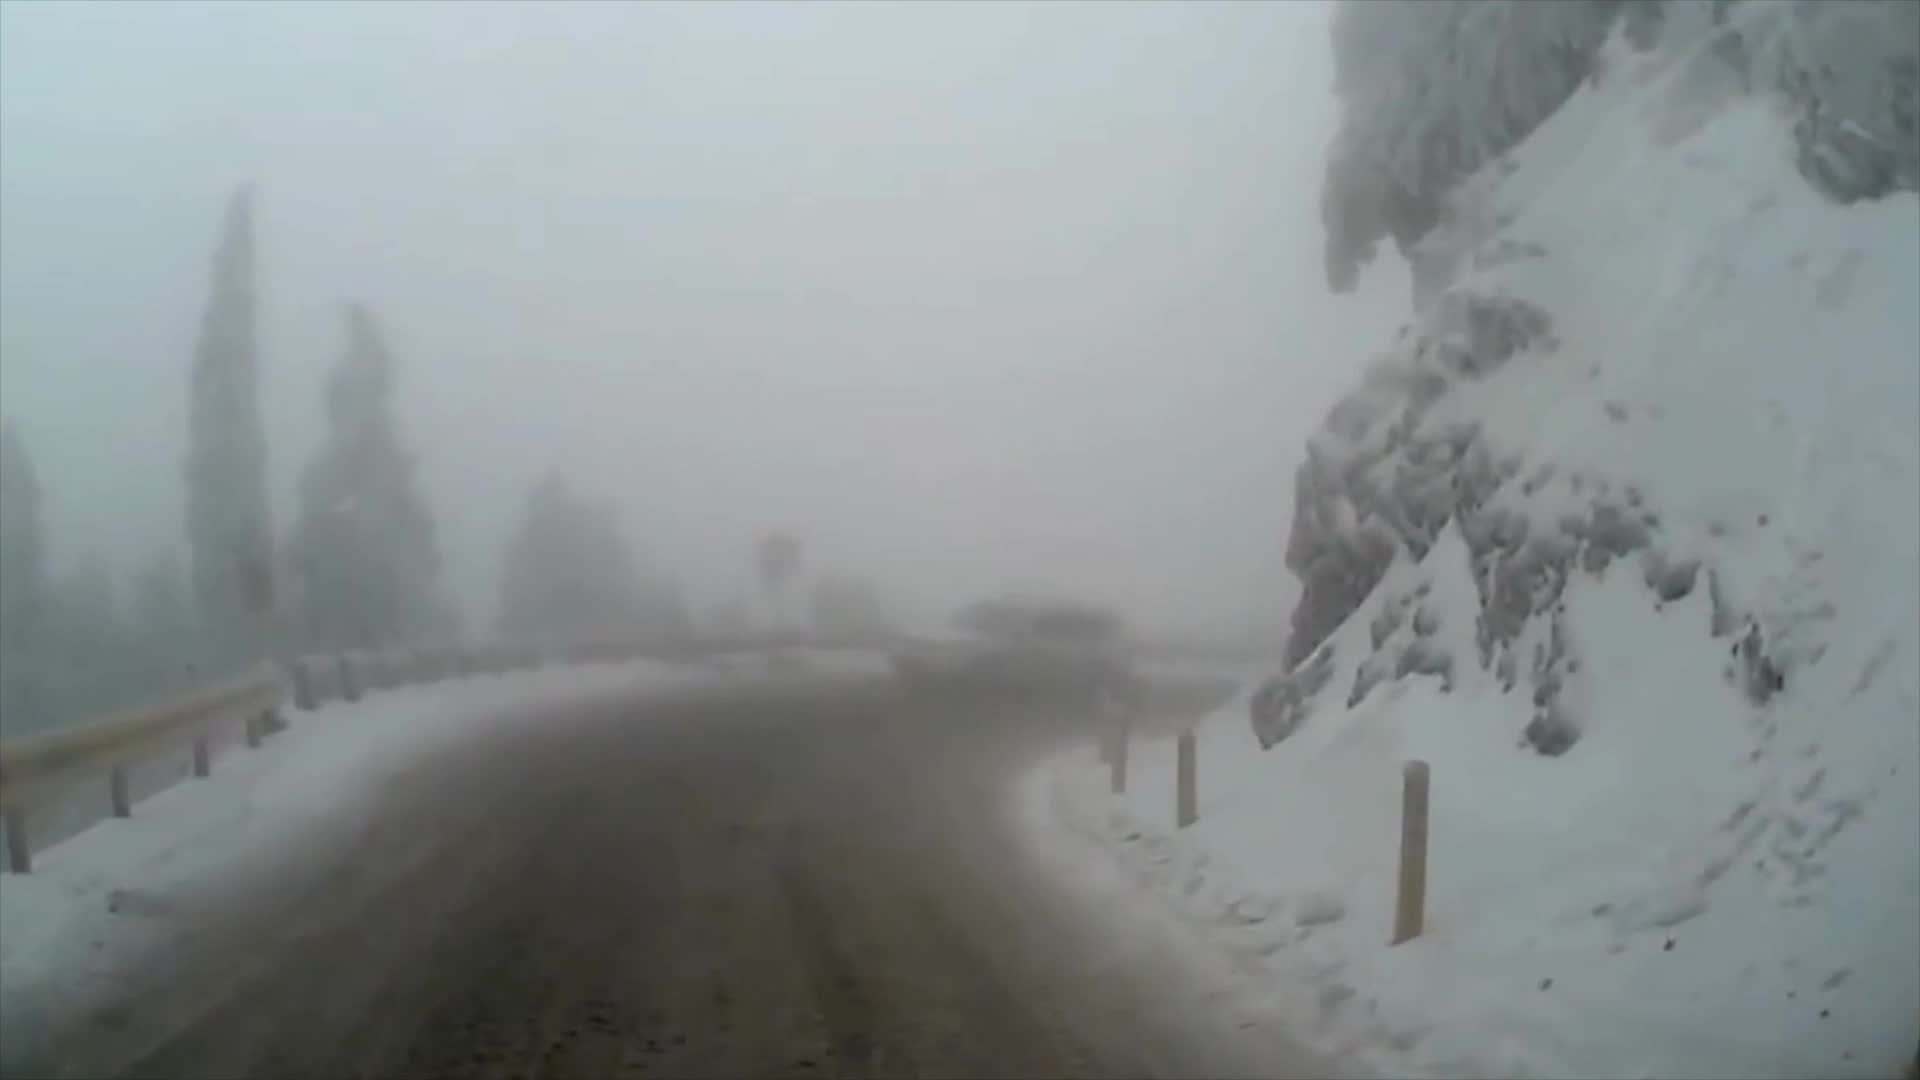vehicle: (880, 596, 1131, 715)
